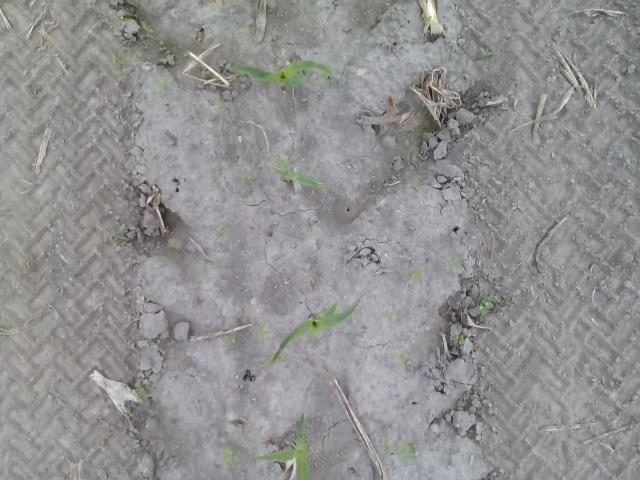Maize: (261, 296, 361, 371), (252, 413, 310, 480), (230, 60, 338, 90), (264, 153, 324, 186)
Weeds: (378, 436, 418, 462), (130, 382, 153, 402), (220, 446, 240, 467), (406, 265, 424, 283), (253, 324, 272, 341), (478, 294, 493, 315), (448, 257, 464, 274), (392, 350, 408, 366), (494, 297, 513, 310), (112, 50, 125, 68), (479, 46, 497, 58), (418, 12, 432, 27), (138, 20, 154, 33), (214, 100, 231, 112), (156, 76, 168, 92), (216, 226, 230, 239), (453, 330, 465, 345), (32, 83, 44, 98), (237, 172, 251, 184), (105, 232, 118, 244), (210, 256, 223, 268), (96, 440, 108, 452), (380, 312, 394, 320), (234, 189, 246, 198), (199, 69, 210, 78), (224, 335, 236, 343), (160, 101, 170, 110), (121, 12, 132, 20), (118, 222, 126, 230), (166, 403, 178, 408), (617, 110, 626, 116), (538, 260, 546, 266), (526, 437, 532, 444)
